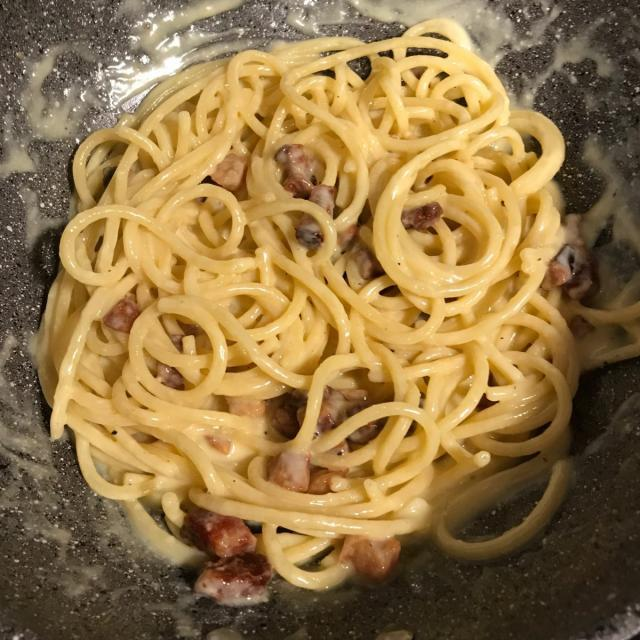Pasta with carbonara sauce: (26, 25, 590, 580)
